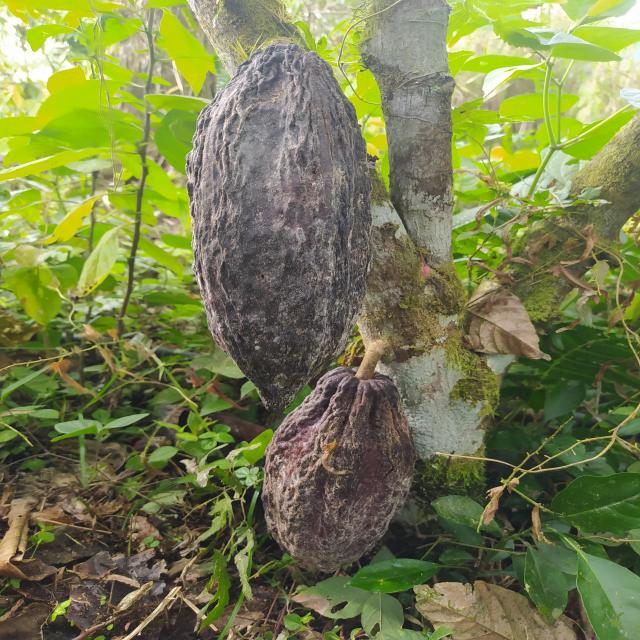Fitoftora: (188, 44, 372, 415), (270, 367, 414, 574)
